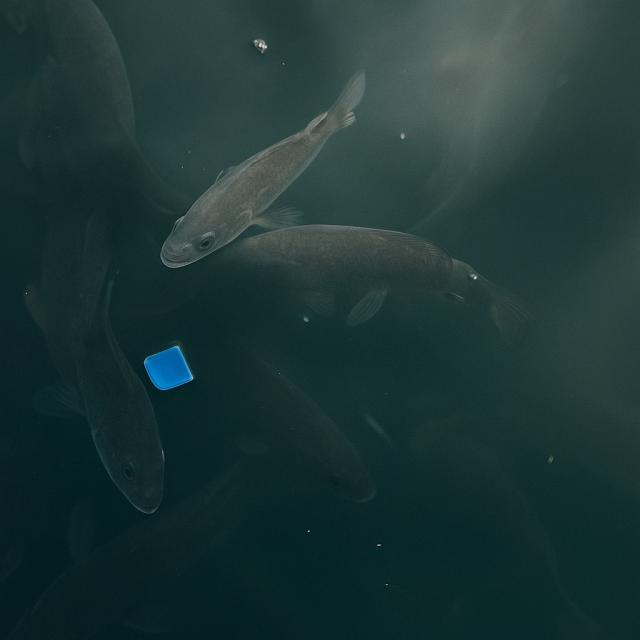ikan: (159, 68, 367, 270), (195, 222, 530, 341)
